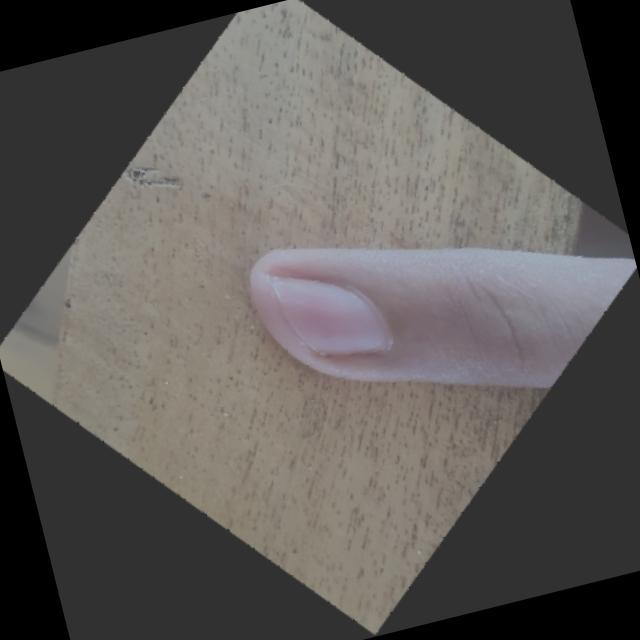Nail: (273, 277, 384, 352)
